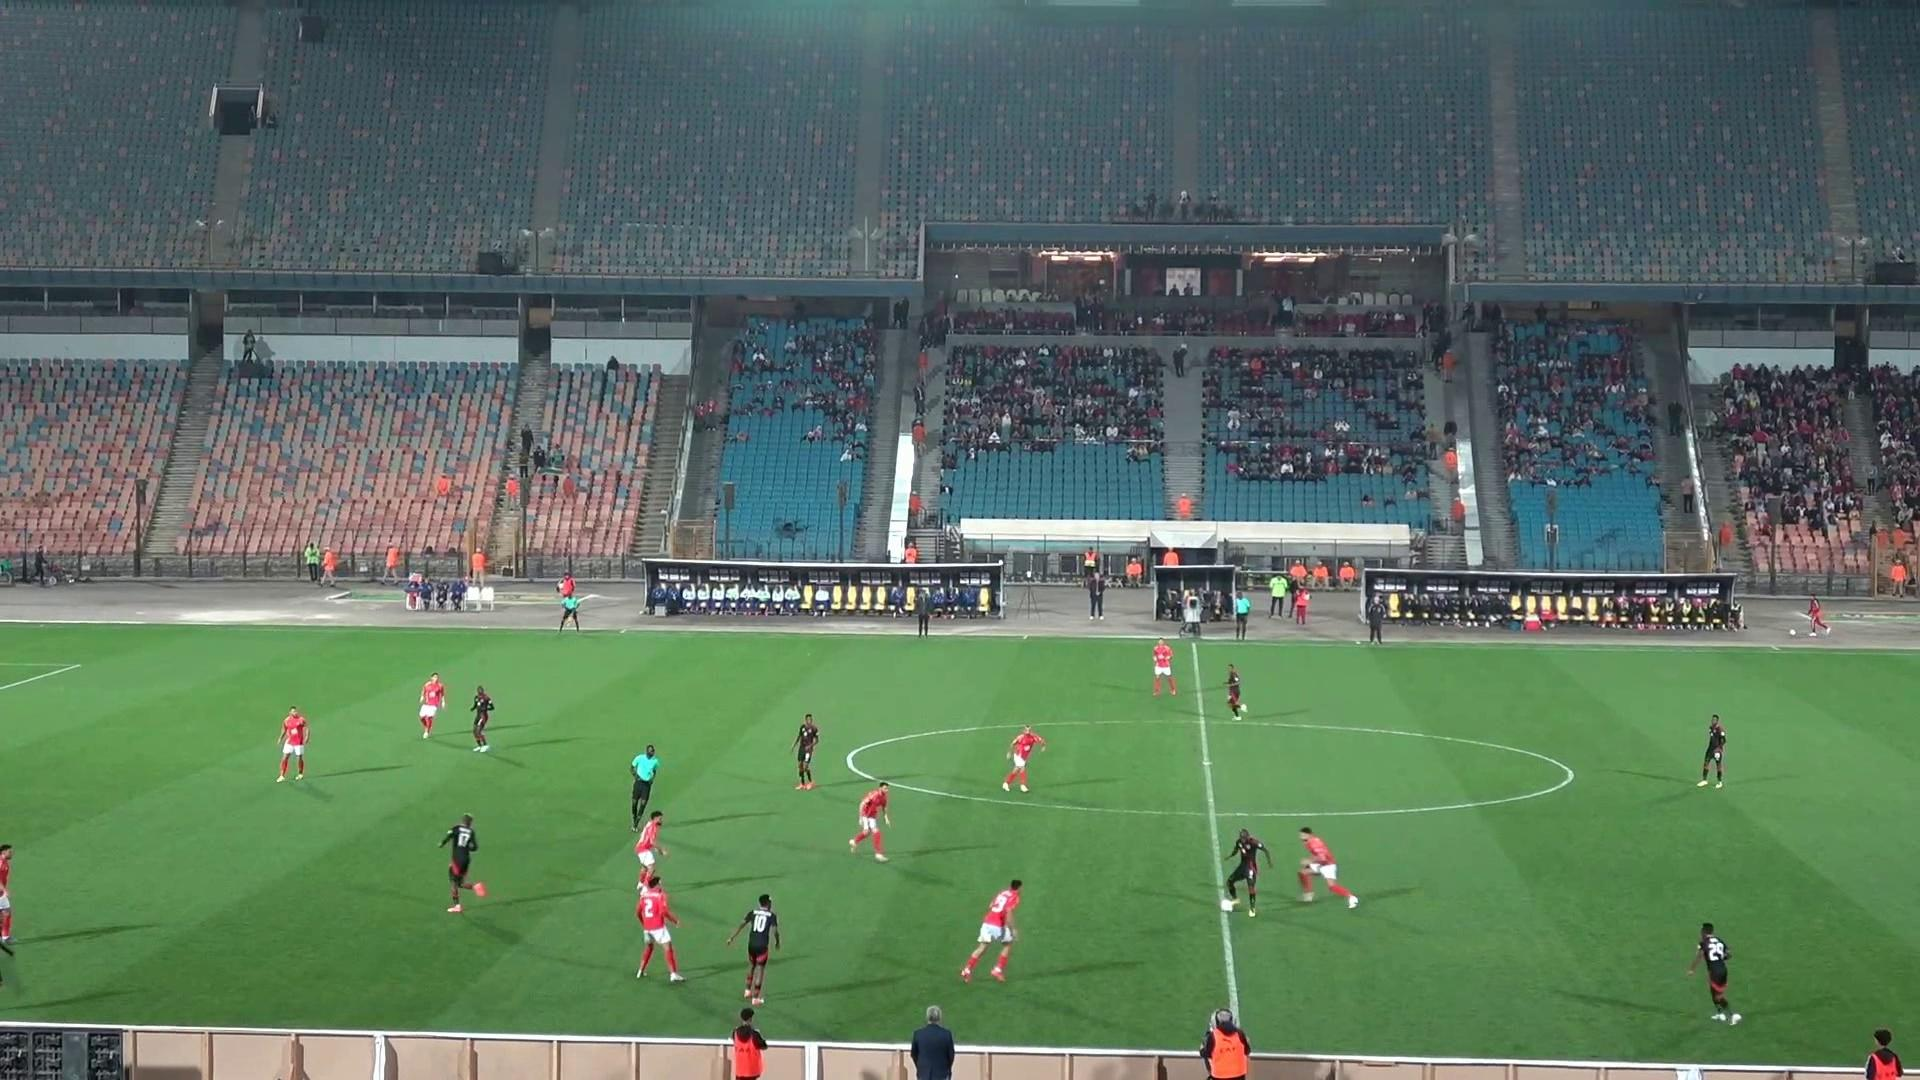Ball: (1218, 889, 1237, 915)
Refree: (629, 744, 659, 827), (556, 574, 582, 630), (1232, 588, 1251, 640)
Team1: (959, 880, 1022, 981), (636, 873, 683, 981), (1298, 827, 1358, 906), (849, 782, 887, 862), (1001, 727, 1046, 793), (276, 707, 309, 781), (634, 812, 667, 880), (794, 715, 819, 789), (419, 673, 446, 738), (1153, 640, 1178, 695)
Team2: (727, 894, 781, 1005), (1691, 922, 1741, 1025), (1225, 828, 1271, 915), (438, 815, 477, 913), (1696, 713, 1725, 787), (469, 686, 495, 752), (1226, 665, 1244, 719)
